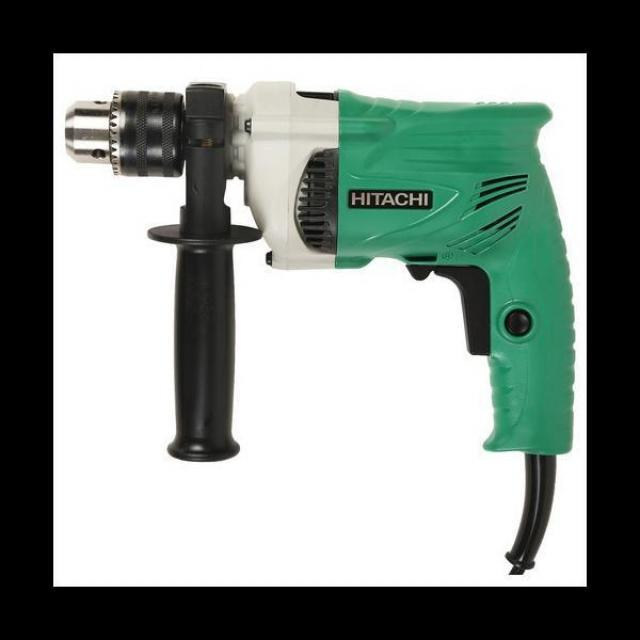drill: (64, 80, 576, 576)
